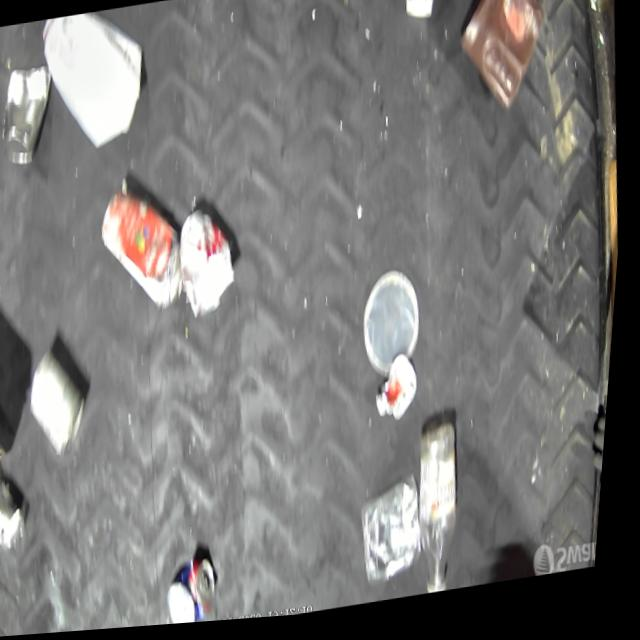can: (28, 345, 100, 463), (0, 59, 63, 170), (171, 555, 231, 628), (574, 0, 614, 26)
plastic_bottle: (414, 424, 480, 602)
